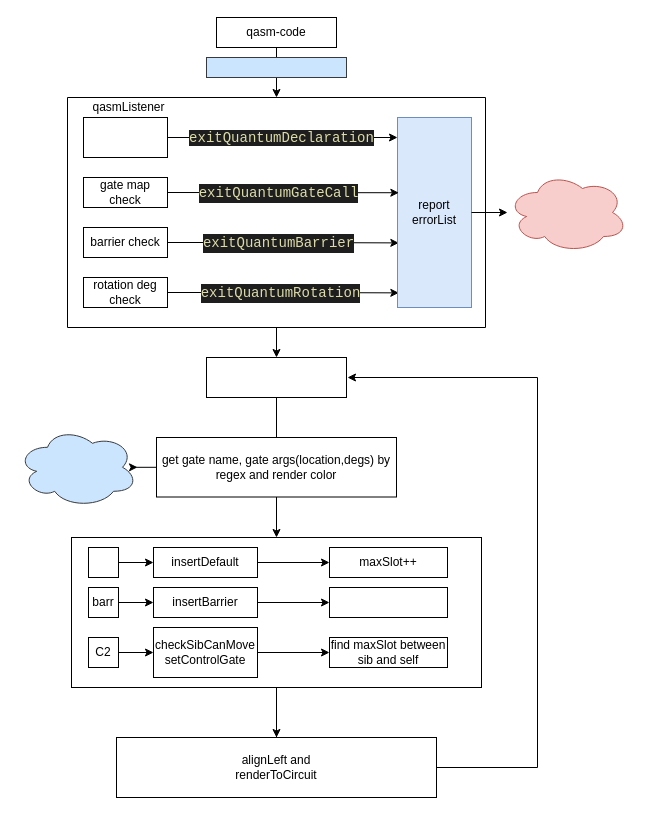
The diagram is 645 pixels wide and 815 high, and some of its shapes have lost their labels. Here are the shapes that lost their labels. From the top down, the centre of each, then its label:
point 276,67: code verification
point 125,137: q bits,gate location,topo check
point 567,212: mark the error's line number
point 276,377: qasm-each-line-code
point 77,466: rx (pi/4) q[1] ;
point 103,562: C1.R1
point 388,602: maxSlot < ind? maxs++:ind
